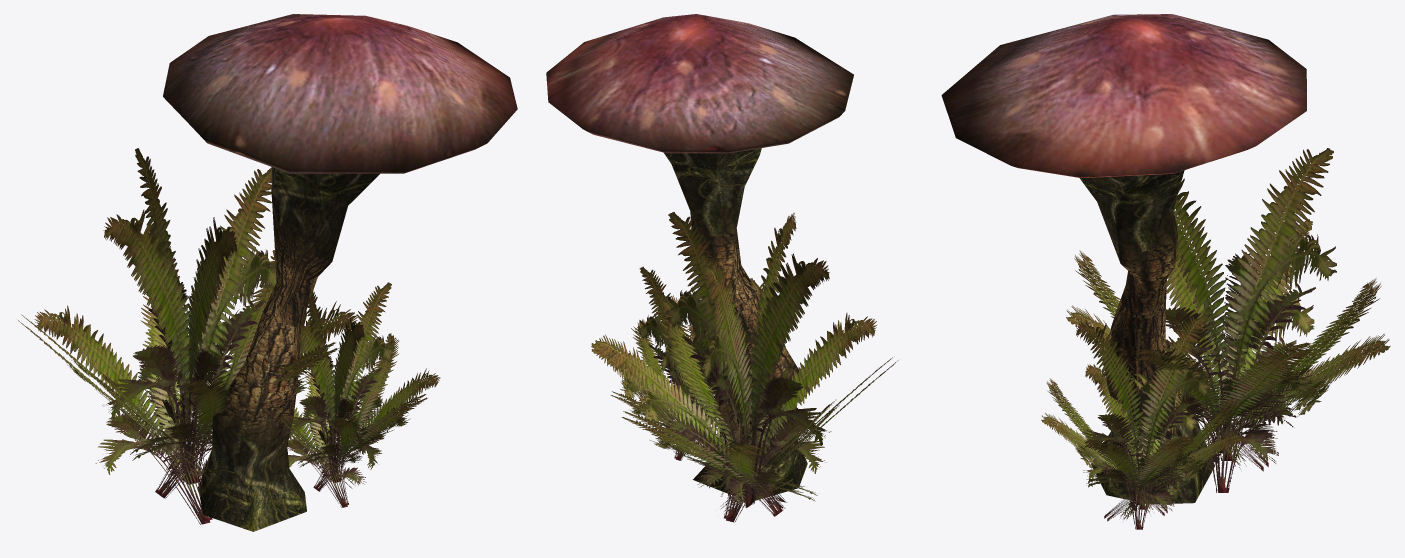
File: mogu_05.FBX
3 views of the same model, side by side, from view 1: azimuth 30°, elevation 25°; view 2: azimuth 150°, elevation 25°; view 3: azimuth 270°, elevation 25° (orthographic). The views are drawn at different scales.
Parts seen in each view (by area): view 1: mogu_05_03, mogu_05_01, mogu_05_02; view 2: mogu_05_03, mogu_05_01, mogu_05_02; view 3: mogu_05_03, mogu_05_01, mogu_05_02.
Part boxes in pixels (box(x1,y1,x2,y2)): mogu_05_03: box(18, 148, 440, 524); mogu_05_01: box(163, 14, 517, 173); mogu_05_02: box(198, 167, 379, 531); mogu_05_03: box(591, 212, 898, 522); mogu_05_01: box(546, 14, 853, 153); mogu_05_02: box(664, 148, 807, 500); mogu_05_03: box(1041, 148, 1390, 529); mogu_05_01: box(941, 14, 1306, 178); mogu_05_02: box(1079, 170, 1214, 504).
Size of the model in its own units: 3.57 by 4.36 by 3.46.
